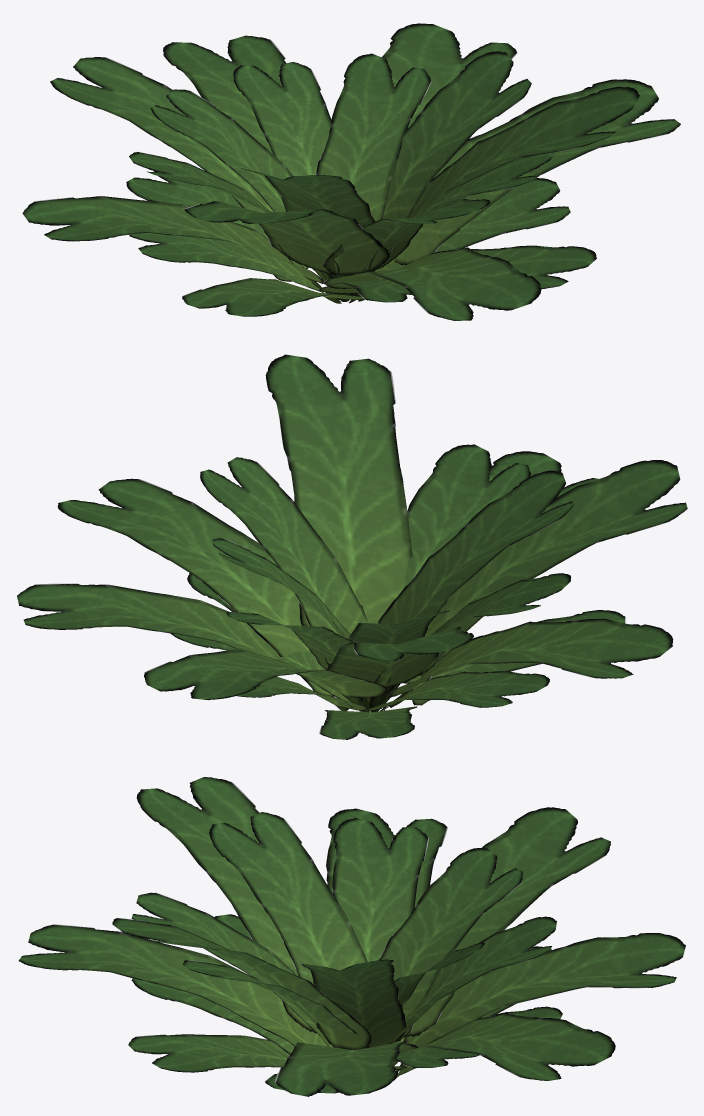
Rendered from SkirtPalm.fbx.
The picture shows the model from 3 angles, top to bottom: view 1: azimuth 30°, elevation 25°; view 2: azimuth 150°, elevation 25°; view 3: azimuth 270°, elevation 25°; orthographic projection. The views are drawn at different scales.
Visible parts, largest first — view 1: SkirtPalm; view 2: SkirtPalm; view 3: SkirtPalm.
Boxes of the visible parts, bbox=[...] form: SkirtPalm: bbox=[22, 23, 680, 320]; SkirtPalm: bbox=[17, 354, 687, 739]; SkirtPalm: bbox=[18, 777, 685, 1096].
Size of the model in its own units: 750 by 281 by 742.
1 material, 1 textured.
